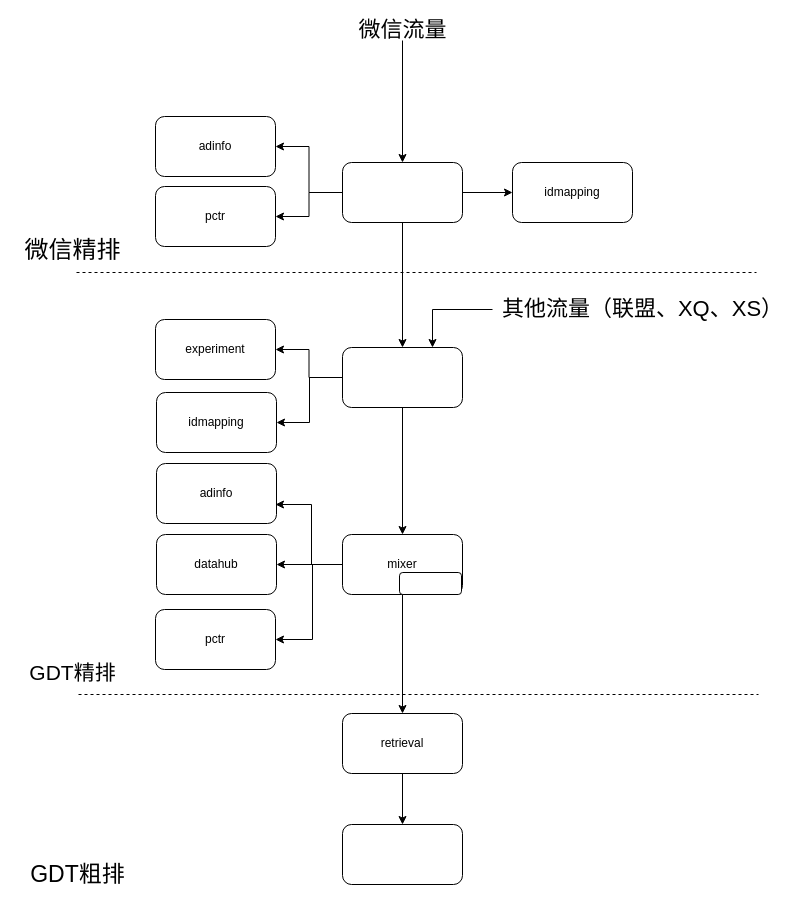
Image size: 809x905. Some labels were removed from this diagram. The centre of each missing label's shape, as x and y in pixels:
display: pixel 402 377
mp 精排: pixel 402 192
reranking: pixel 430 583
scoring: pixel 402 854
